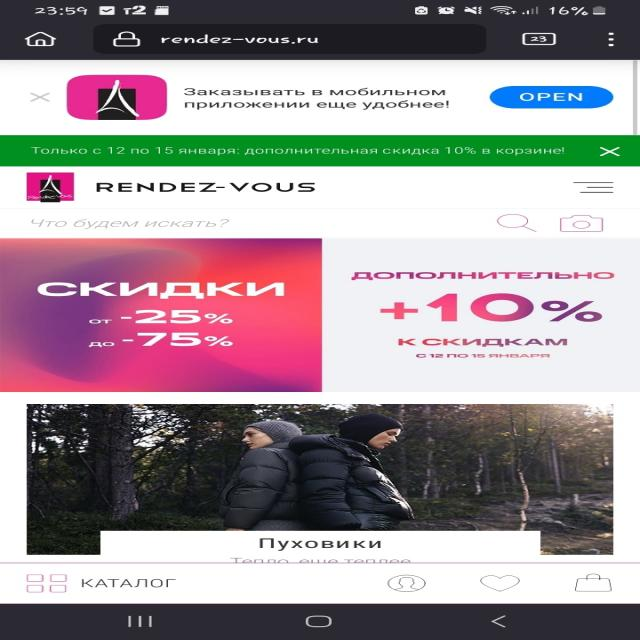button: (489, 85, 613, 109), (20, 89, 58, 106), (593, 144, 631, 160)
site: (2, 59, 640, 136), (0, 135, 640, 166)
